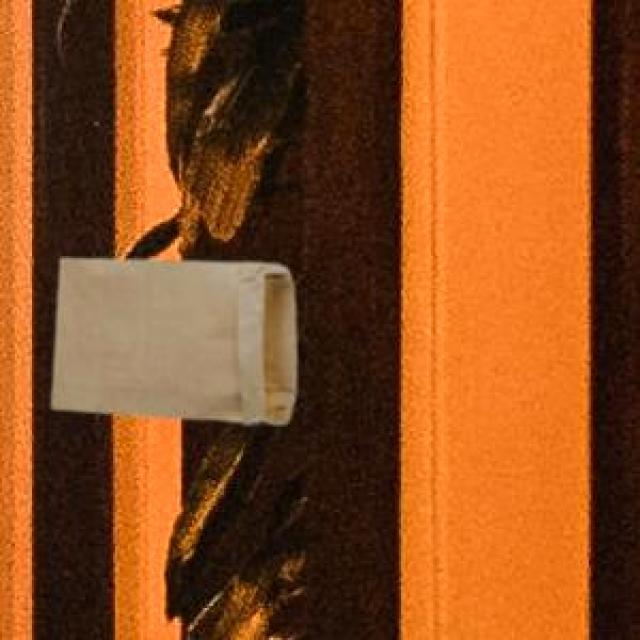Paper_Bag: (48, 254, 294, 422)
